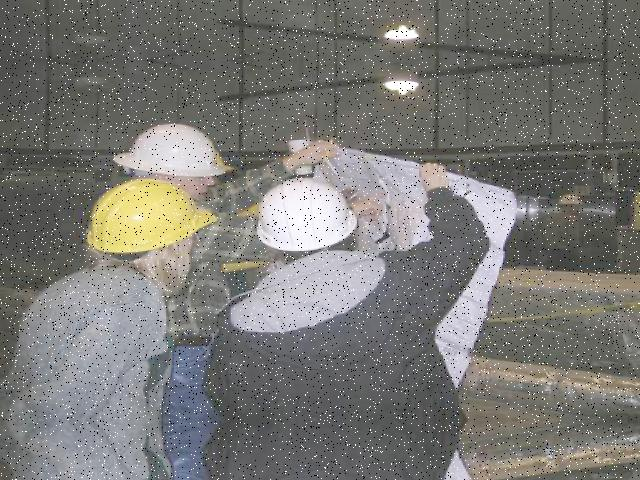Helmet: (74, 178, 222, 253), (251, 173, 363, 256), (109, 120, 235, 180)
